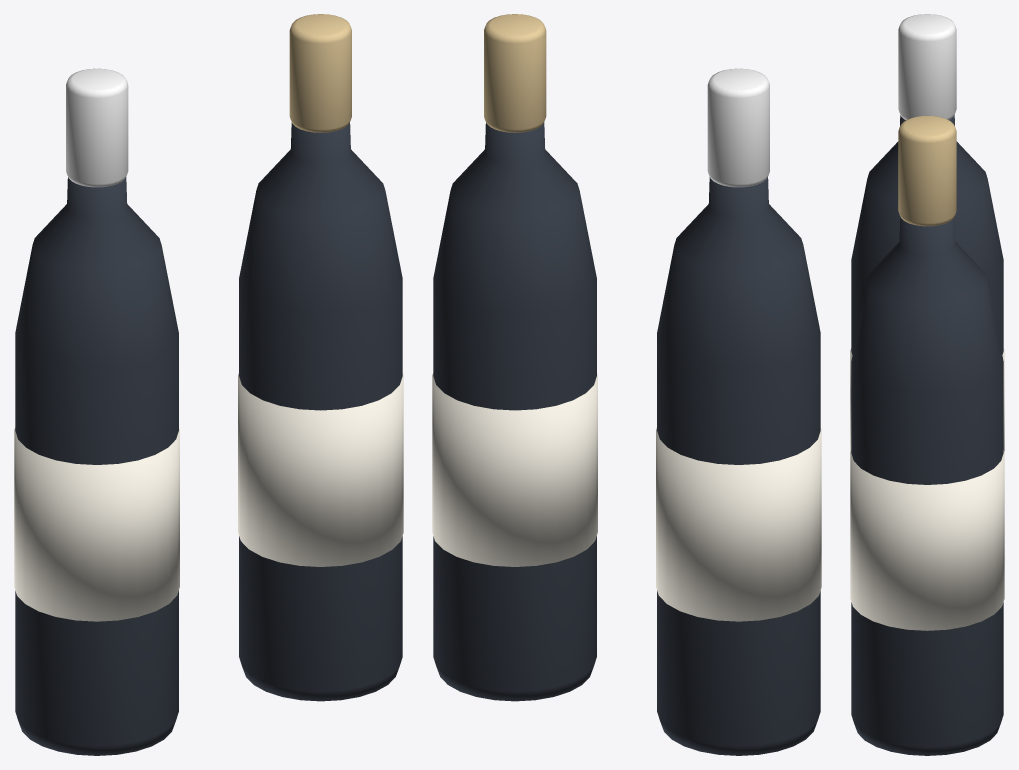
File: wine_bottles_01.glb
3 renders of one model, left to right at view 1: azimuth 30°, elevation 25°; view 2: azimuth 150°, elevation 25°; view 3: azimuth 270°, elevation 25°, orthographic. The views are drawn at different scales.
Parts seen in each view (by area): view 1: wine_bottles_01_burgundy_glass, wine_bottles_01_bordeaux_glass, wine_bottles_01_bordeaux_label, wine_bottles_01_burgundy_label, wine_bottles_01_bordeaux_foil, wine_bottles_01_burgundy_foil; view 2: wine_bottles_01_burgundy_glass, wine_bottles_01_bordeaux_glass, wine_bottles_01_bordeaux_label, wine_bottles_01_burgundy_label, wine_bottles_01_bordeaux_foil, wine_bottles_01_burgundy_foil; view 3: wine_bottles_01_burgundy_glass, wine_bottles_01_burgundy_label, wine_bottles_01_bordeaux_glass, wine_bottles_01_burgundy_foil, wine_bottles_01_bordeaux_foil, wine_bottles_01_bordeaux_label.
Part boxes in pixels (x1,y1,x2,y2): wine_bottles_01_burgundy_glass: [239, 122, 402, 701]; wine_bottles_01_bordeaux_glass: [15, 177, 178, 755]; wine_bottles_01_bordeaux_label: [14, 427, 179, 621]; wine_bottles_01_burgundy_label: [238, 373, 403, 566]; wine_bottles_01_bordeaux_foil: [66, 68, 128, 187]; wine_bottles_01_burgundy_foil: [289, 14, 351, 132]; wine_bottles_01_burgundy_glass: [433, 122, 596, 701]; wine_bottles_01_bordeaux_glass: [657, 177, 820, 755]; wine_bottles_01_bordeaux_label: [656, 427, 821, 621]; wine_bottles_01_burgundy_label: [432, 373, 597, 566]; wine_bottles_01_bordeaux_foil: [707, 68, 769, 187]; wine_bottles_01_burgundy_foil: [484, 14, 546, 132]; wine_bottles_01_burgundy_glass: [851, 217, 1003, 755]; wine_bottles_01_burgundy_label: [850, 450, 1004, 630]; wine_bottles_01_bordeaux_glass: [851, 115, 1003, 354]; wine_bottles_01_burgundy_foil: [898, 115, 956, 226]; wine_bottles_01_bordeaux_foil: [898, 14, 956, 119]; wine_bottles_01_bordeaux_label: [850, 348, 1004, 451].
Bounding box in the file's own units: 0.197 × 0.33 × 0.077.
